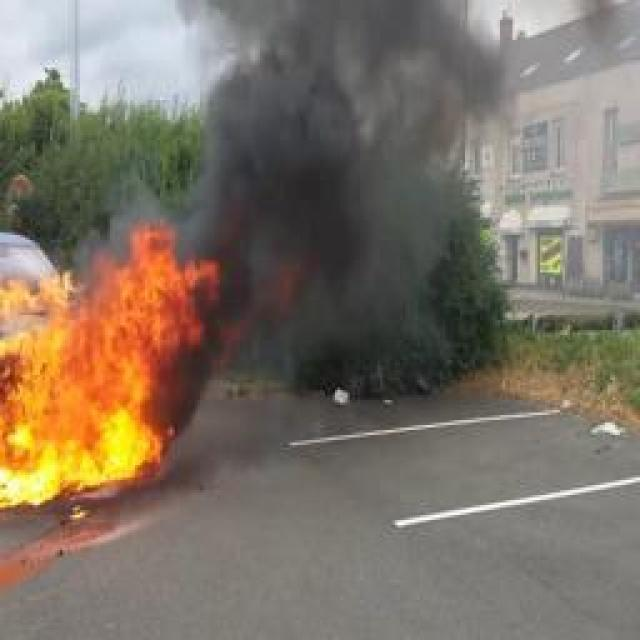Fire: (2, 222, 226, 512)
